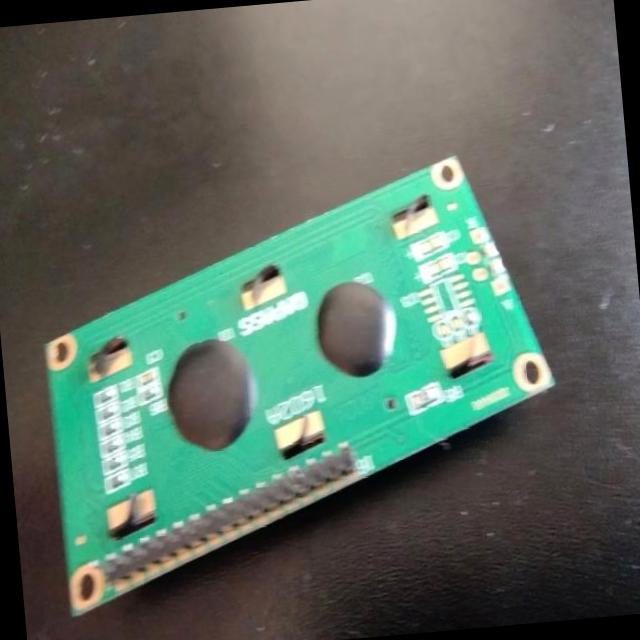lcd: (26, 145, 574, 618)
